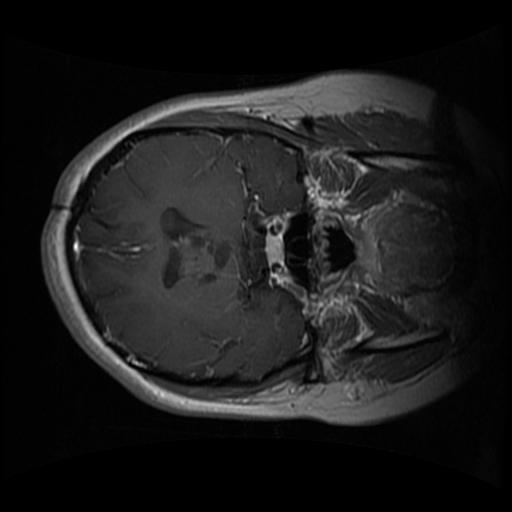glioma: (155, 205, 253, 309)
